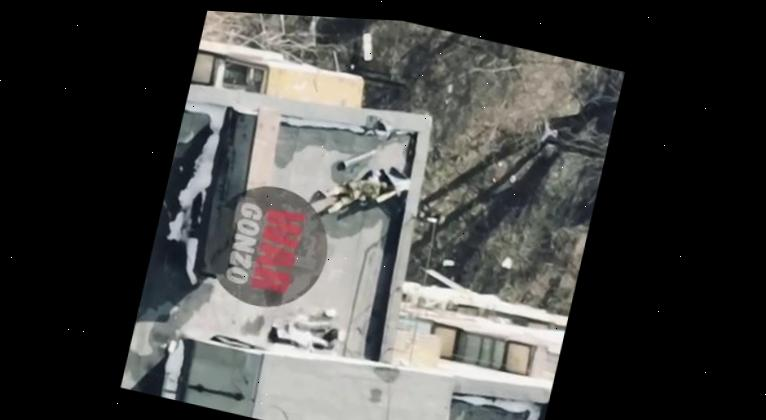person: (313, 155, 391, 226)
